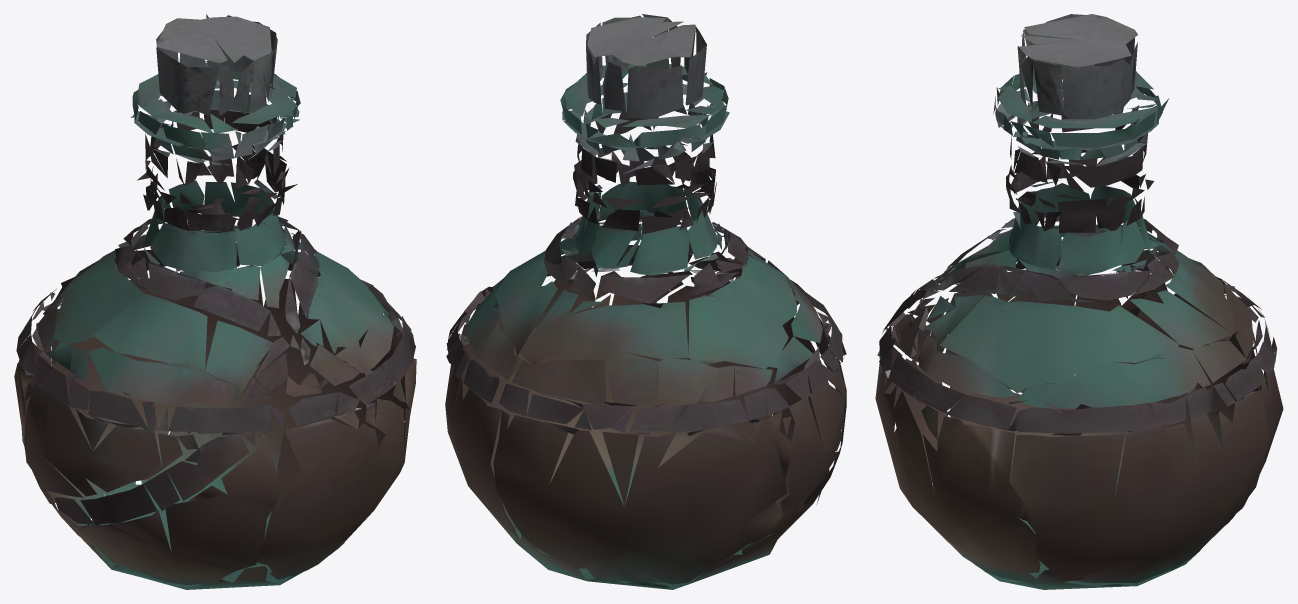
Rendered from estus_flask.glb.
3 views of the same model, side by side, from view 1: azimuth 30°, elevation 25°; view 2: azimuth 150°, elevation 25°; view 3: azimuth 270°, elevation 25° (orthographic).
Visible parts, largest first — view 1: EstusFlask2; view 2: EstusFlask2; view 3: EstusFlask2.
Boxes of the visible parts, box(x1,y1,x2,y2) form: EstusFlask2: box(14, 14, 416, 589); EstusFlask2: box(445, 14, 846, 589); EstusFlask2: box(875, 14, 1283, 589).
Size of the model in its own units: 0.1733 by 0.2408 by 0.1747.
Materials: 1 (1 with a texture image).
